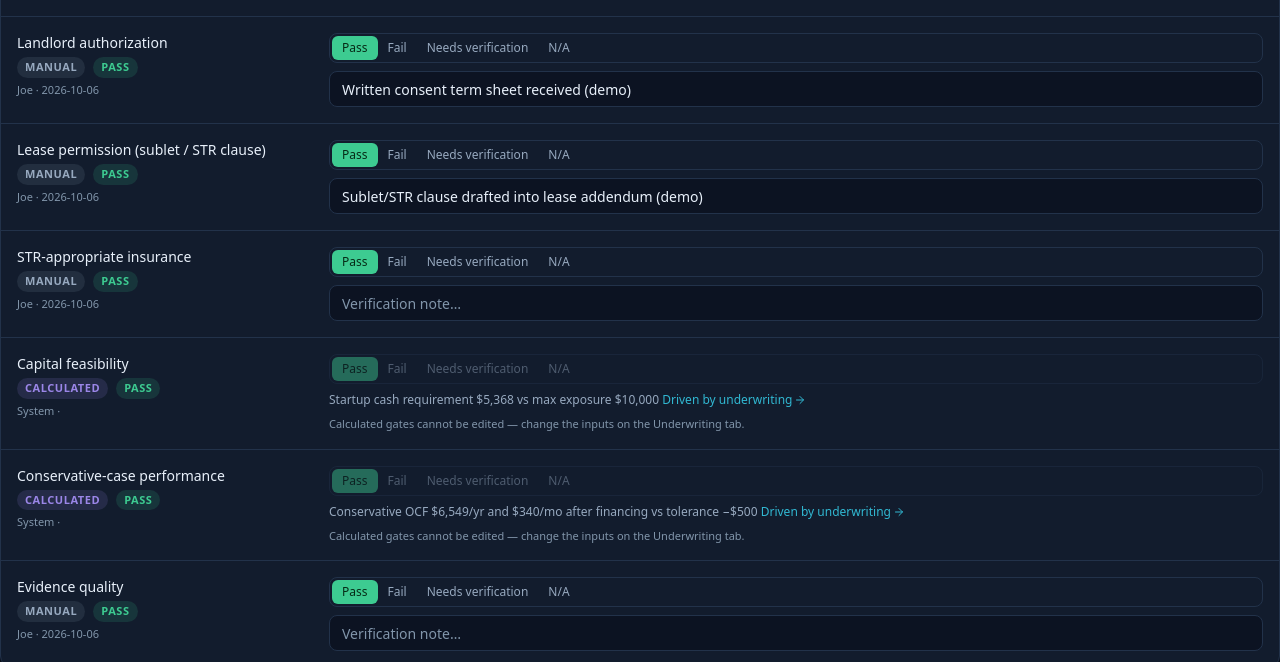
Property Intelligence — compliance › finalist: insurance FAIL blocks, PASS restores QUALIFIED
(page scrolled)
What coordinates should you click on to do the following:
click the radio button labelled "Fail" in the row of "STR-appropriate insurance"
I would click on:
 (397, 262)
Its box is [378,250,417,274].
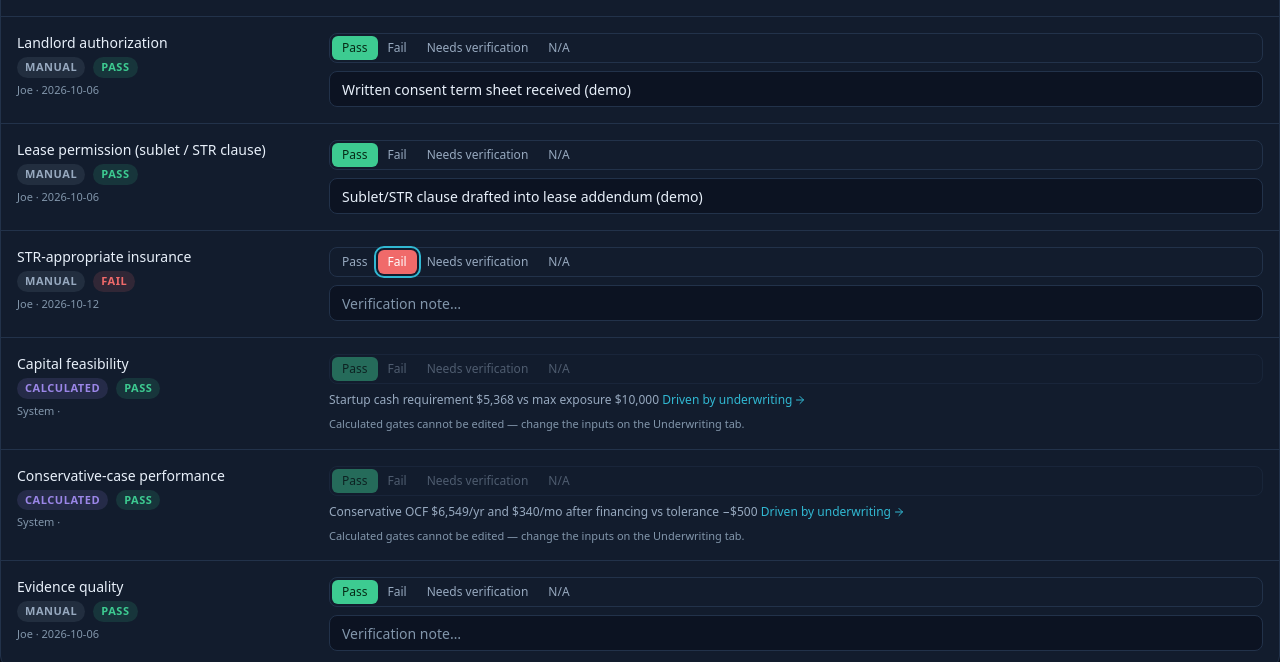
What coordinates should you click on to do the following:
click the radio button labelled "Pass" next to "STR-appropriate insurance"
I would click on:
 (355, 262)
Its box is [332,250,378,274].
(page scrolled)
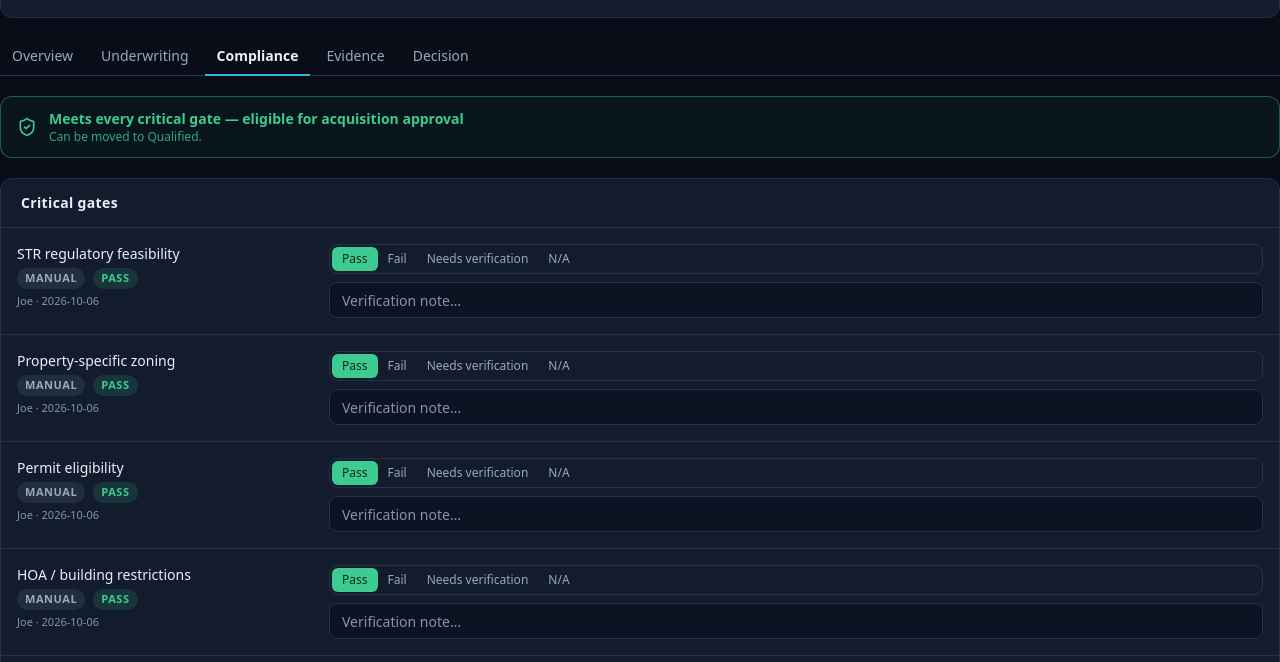
Now the text "eligible for acquisition approval" is shown, box [49,109,464,128]
